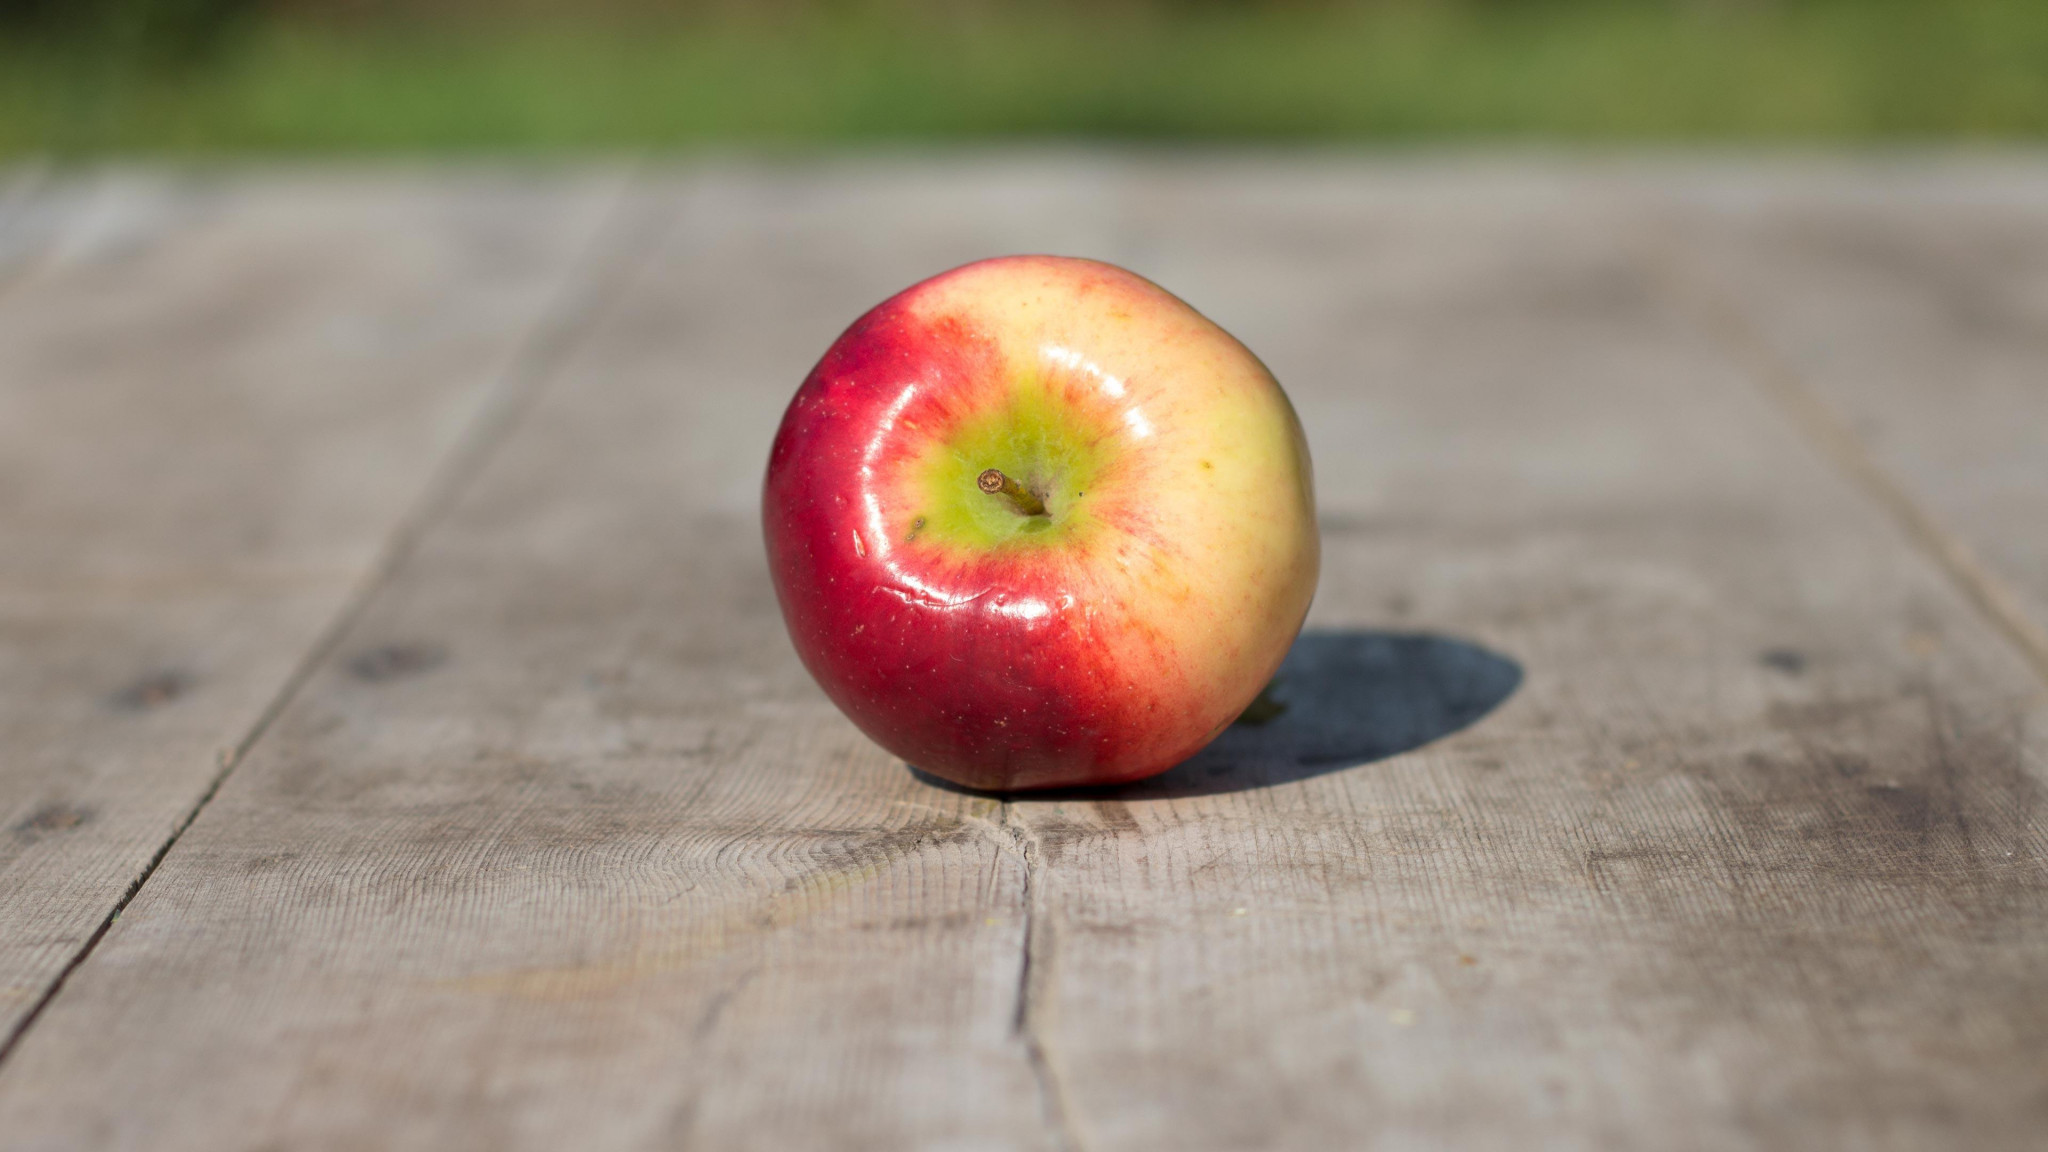Apple: (762, 253, 1322, 792)
